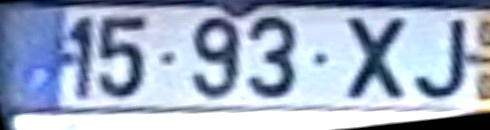1: (65, 16, 97, 102)
3: (245, 14, 303, 103)
5: (97, 14, 155, 103)
9: (188, 13, 245, 105)
J: (411, 18, 473, 104)
X: (344, 16, 414, 103)
